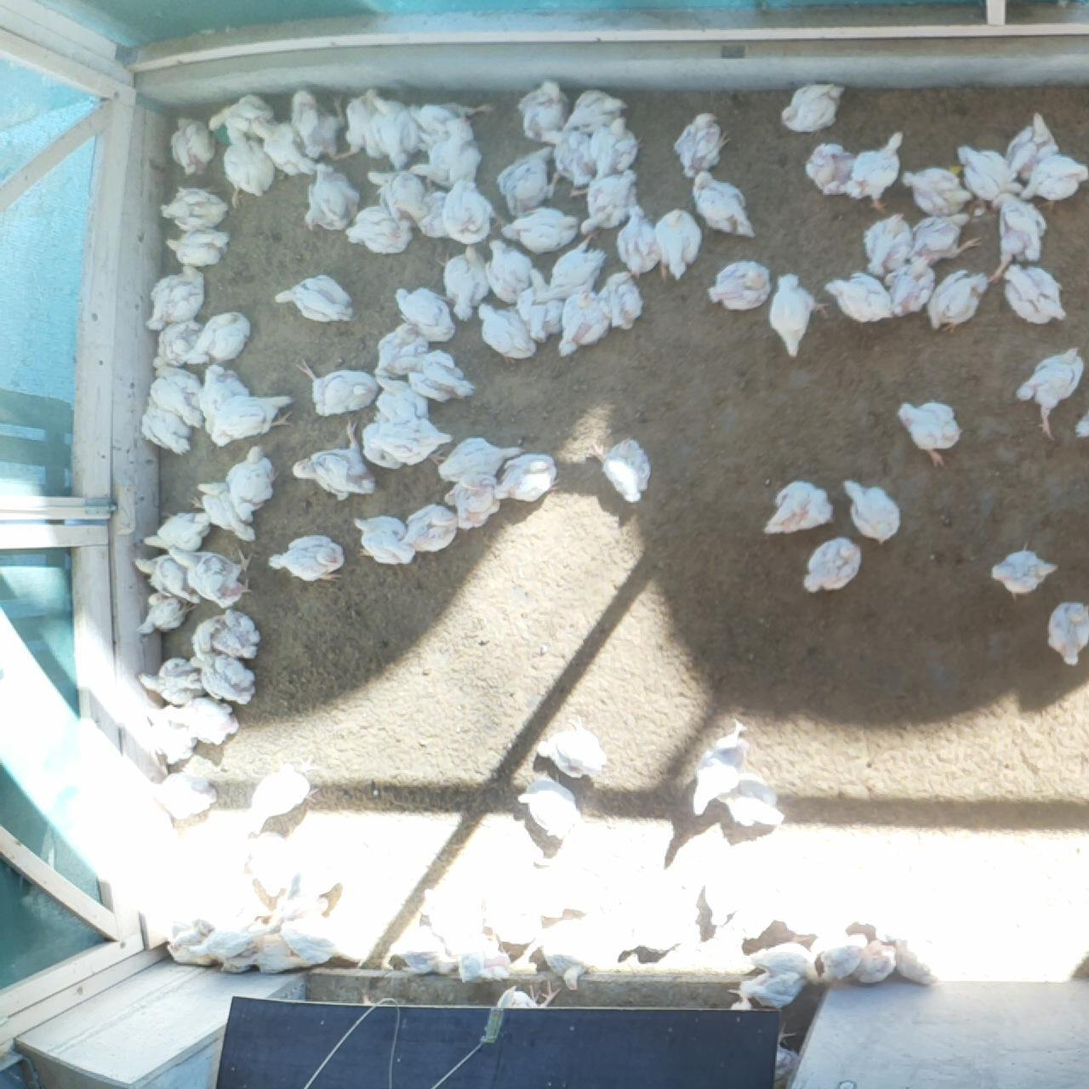chicken: (1009, 342, 1087, 437), (291, 420, 379, 504), (242, 751, 322, 835), (688, 713, 751, 815), (163, 542, 253, 609), (986, 191, 1048, 287), (408, 115, 483, 190), (684, 166, 759, 241), (288, 90, 360, 164), (359, 412, 450, 470), (767, 271, 828, 357), (493, 144, 561, 220), (411, 98, 498, 157), (207, 390, 294, 449), (847, 129, 907, 211), (539, 231, 607, 303), (438, 174, 505, 247), (535, 716, 608, 782), (144, 260, 210, 333), (907, 207, 982, 271), (894, 398, 964, 466), (223, 123, 278, 209), (248, 112, 316, 181), (1001, 110, 1062, 186), (712, 771, 789, 831), (434, 436, 526, 486), (187, 481, 258, 545), (296, 359, 378, 414), (553, 286, 613, 360), (185, 606, 264, 662), (437, 242, 493, 321), (893, 162, 973, 217), (760, 480, 834, 539), (248, 885, 330, 938), (421, 883, 482, 954), (592, 435, 653, 506), (299, 162, 360, 233), (841, 475, 902, 546), (925, 268, 992, 332), (228, 442, 281, 522), (472, 299, 537, 364), (274, 273, 355, 325), (540, 919, 598, 991), (580, 168, 643, 234), (392, 285, 460, 346), (366, 93, 421, 168), (999, 261, 1064, 324), (267, 533, 344, 586), (612, 905, 684, 961), (1016, 153, 1089, 208), (516, 777, 580, 839), (955, 142, 1022, 201), (498, 203, 577, 253), (672, 110, 729, 179), (159, 697, 239, 746), (138, 704, 202, 765), (477, 874, 537, 939), (823, 269, 895, 323), (137, 656, 209, 709), (383, 925, 456, 977), (801, 532, 863, 593), (405, 351, 475, 405), (987, 543, 1058, 596), (184, 309, 250, 366), (776, 81, 848, 133), (366, 167, 427, 228), (705, 258, 773, 312), (190, 648, 252, 707), (198, 365, 251, 434), (743, 941, 826, 985), (343, 205, 416, 255), (158, 184, 231, 234), (615, 201, 662, 278), (494, 450, 561, 504), (230, 932, 312, 976), (150, 365, 207, 428), (884, 250, 939, 315), (516, 78, 570, 144), (245, 832, 298, 899), (152, 768, 221, 819), (140, 392, 194, 457), (515, 268, 563, 341), (697, 856, 745, 929), (654, 207, 703, 278), (862, 210, 913, 278), (483, 232, 531, 304), (349, 515, 416, 566), (532, 868, 597, 920), (132, 552, 198, 603), (445, 470, 502, 529), (278, 921, 356, 964), (141, 506, 208, 556), (1042, 599, 1089, 670), (591, 115, 642, 180), (284, 847, 347, 899), (368, 371, 431, 423), (550, 120, 593, 196), (168, 114, 217, 179), (800, 140, 856, 196), (733, 969, 807, 1011), (162, 226, 235, 268), (136, 588, 194, 640), (769, 891, 836, 936), (400, 501, 460, 550), (207, 92, 275, 135), (562, 89, 630, 132), (375, 322, 428, 376), (598, 268, 642, 330), (346, 82, 383, 155), (892, 929, 938, 987), (151, 318, 202, 370), (453, 935, 511, 980), (846, 937, 896, 986), (820, 933, 869, 982), (167, 901, 218, 948), (493, 978, 560, 1013), (414, 182, 453, 240), (204, 918, 259, 959), (768, 1019, 800, 1089), (157, 938, 223, 967), (212, 944, 260, 977), (749, 751, 749, 754)
